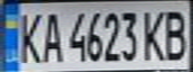2: (103, 7, 124, 62)
3: (118, 8, 142, 63)
4: (63, 8, 87, 63)
6: (84, 8, 106, 63)
A: (36, 8, 66, 63)
B: (160, 6, 193, 62)
K: (12, 8, 45, 64), (139, 7, 169, 61)
